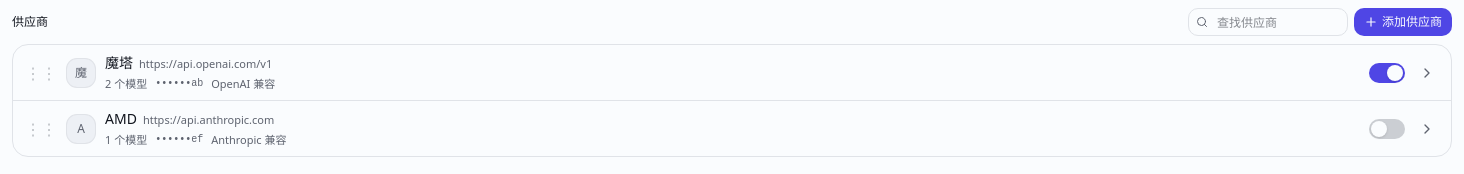
AI 供应商列表 › 搜索过滤只看名字和地址
Expected: the text "魔塔" is shown, [105,53,133,73]
Type "anthro" into the field with placeholder "查找供应商".
click(1268, 22); type("anthro")  # box [1188,8,1348,36]
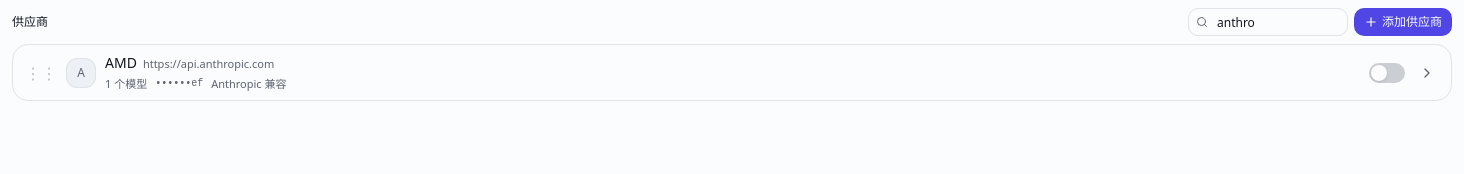
Expected: the text "AMD" is shown, [105,53,137,73]
Expected: the button "魔塔" is gone
Replace the text in the field with placeholder "查找供应商" with "不存在" at (1268,22), box [1188,8,1348,36]
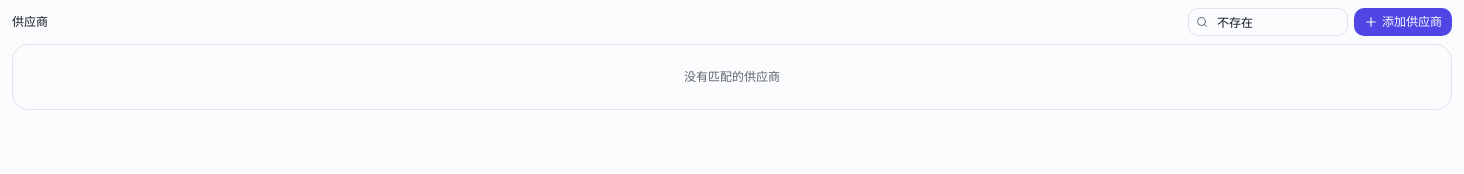
Expected: the list item "没有匹配的供应商" is shown, [684,68,780,85]
